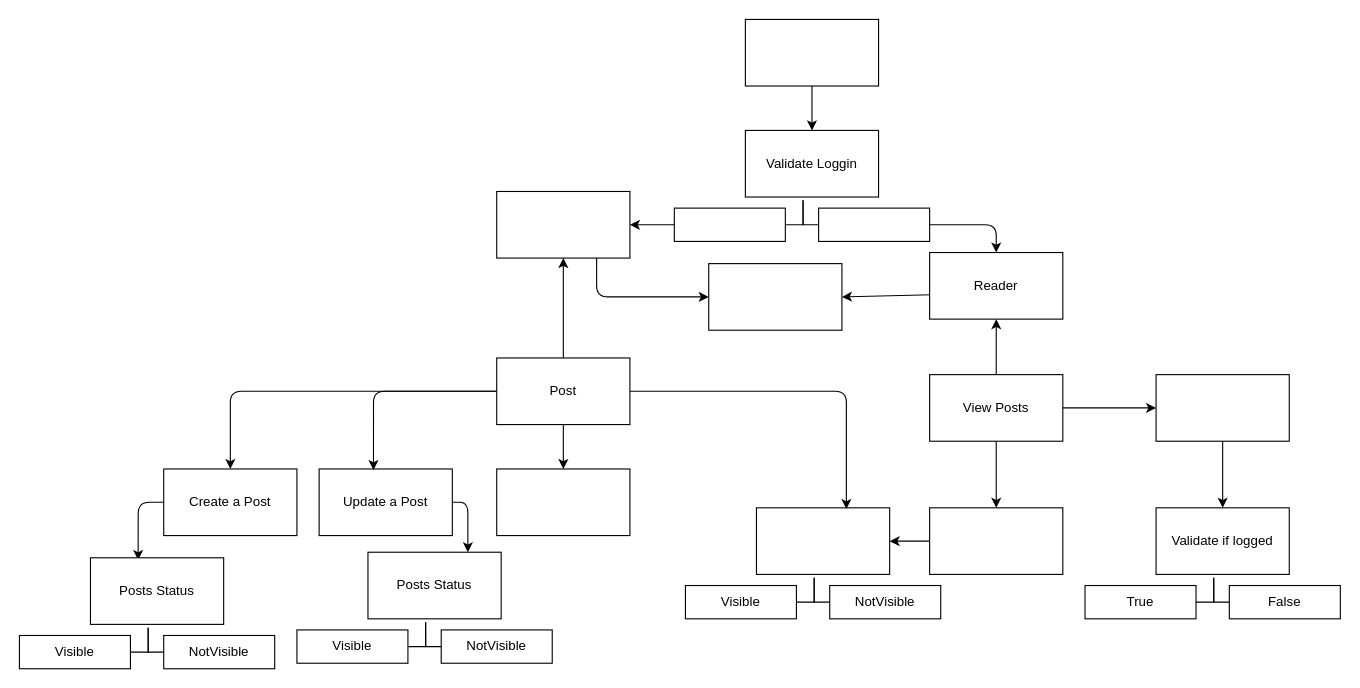
Image size: 1360x688. Some labels were removed from this diagram. The shapes that lost their labels are listed below. From the top down, each one's centre as x and y in pixels, then its label:
point (811, 52): Loggin
point (563, 224): Editor
point (729, 224): Is Editor
point (874, 224): Is Reader
point (775, 296): Profile
point (1222, 407): Post a Comment
point (563, 502): Delete a Post
point (822, 540): Comments Status
point (996, 540): View Comments
